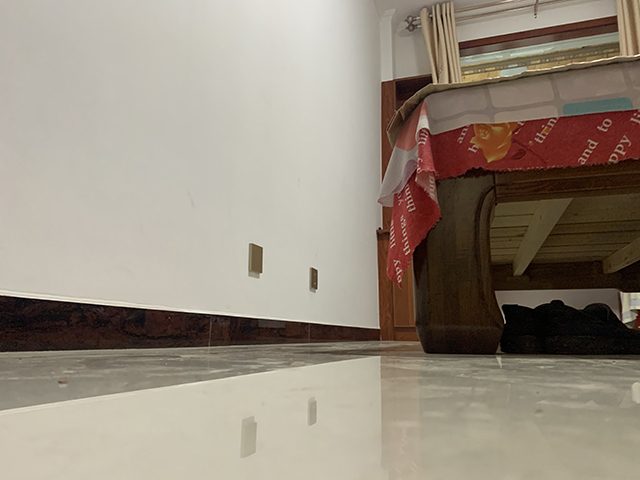bed: (376, 52, 640, 356)
curtain: (418, 3, 465, 84)
